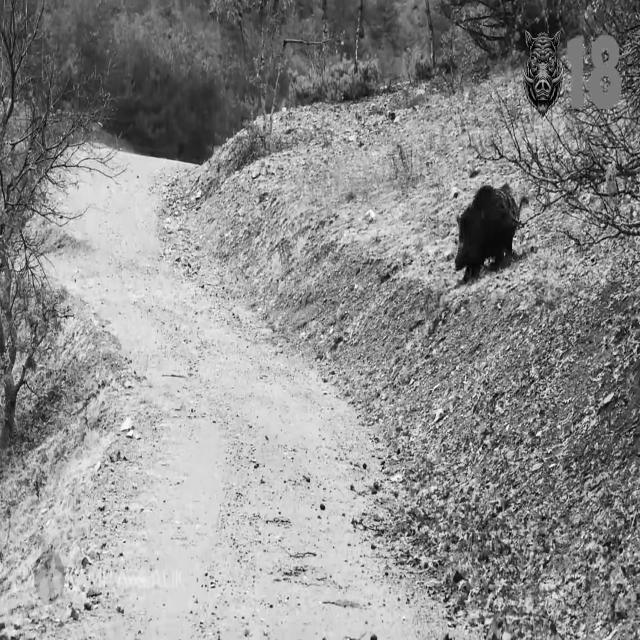boar: (455, 183, 518, 278)
